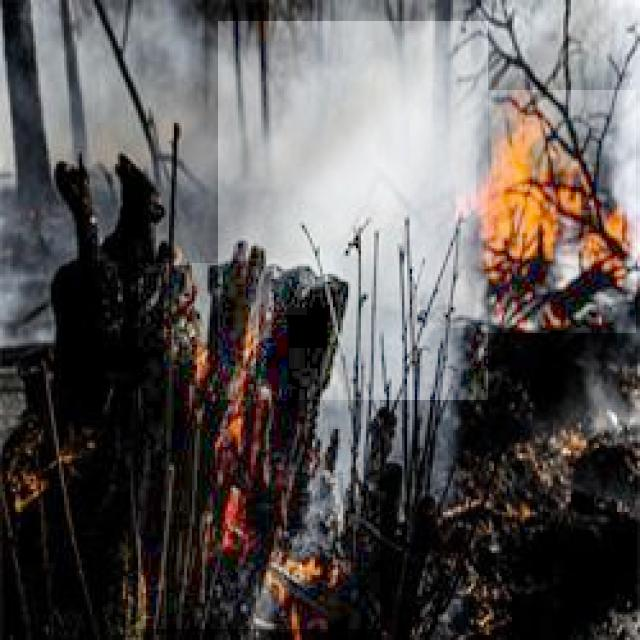Fire: (138, 264, 380, 630), (443, 90, 636, 333)
Smoke: (218, 21, 488, 400)
